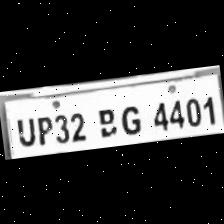0: (180, 94, 203, 128)
1: (198, 91, 218, 125)
2: (64, 106, 88, 142)
3: (50, 109, 70, 145)
4: (146, 96, 170, 131), (164, 94, 183, 129)
B: (90, 102, 118, 140)
G: (114, 100, 146, 136)
P: (31, 112, 54, 146)
U: (10, 113, 36, 147)
